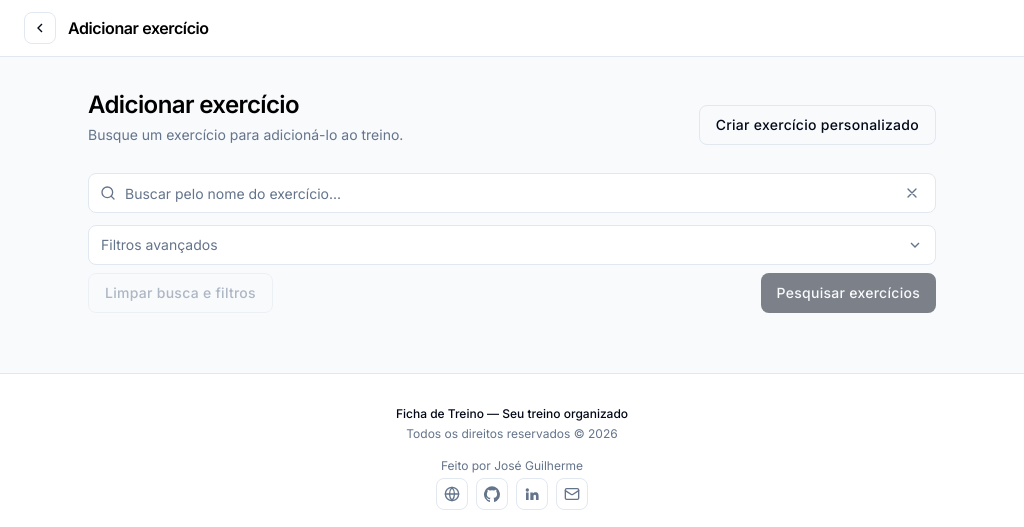
Test: AddExercisePage › clears the combobox query with its clear button
Type "supino" into the dropdown named "Buscar exercícios" at (512, 193), box x1=88 y1=173 x2=936 y2=213
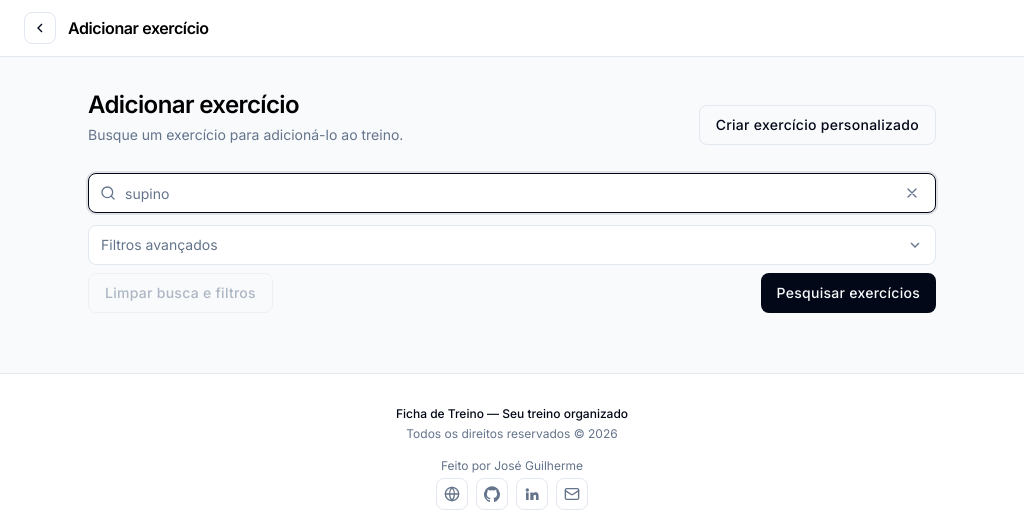
Click the button named "Limpar busca" at (912, 193), box x1=896 y1=177 x2=928 y2=209
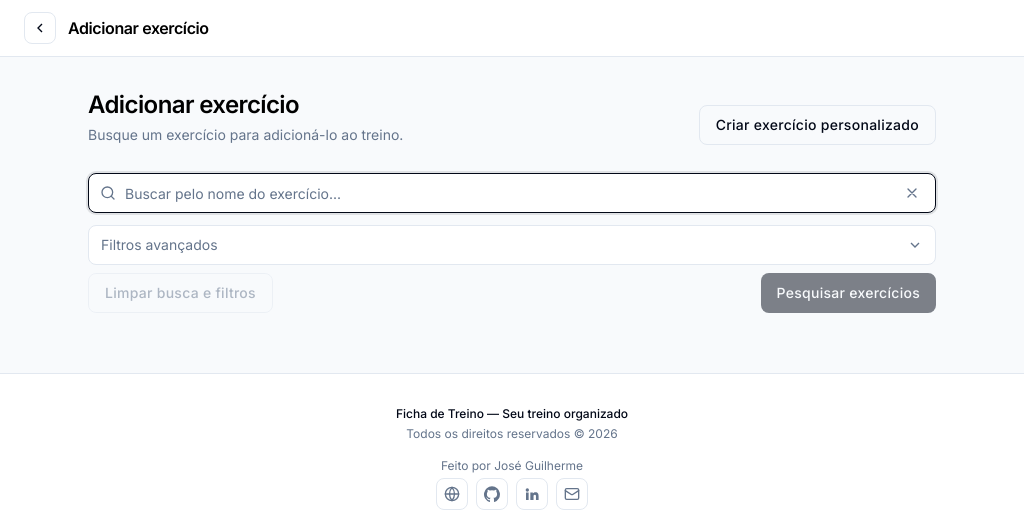
Expected: the dropdown named "Buscar exercícios" is empty, x1=88 y1=173 x2=936 y2=213
